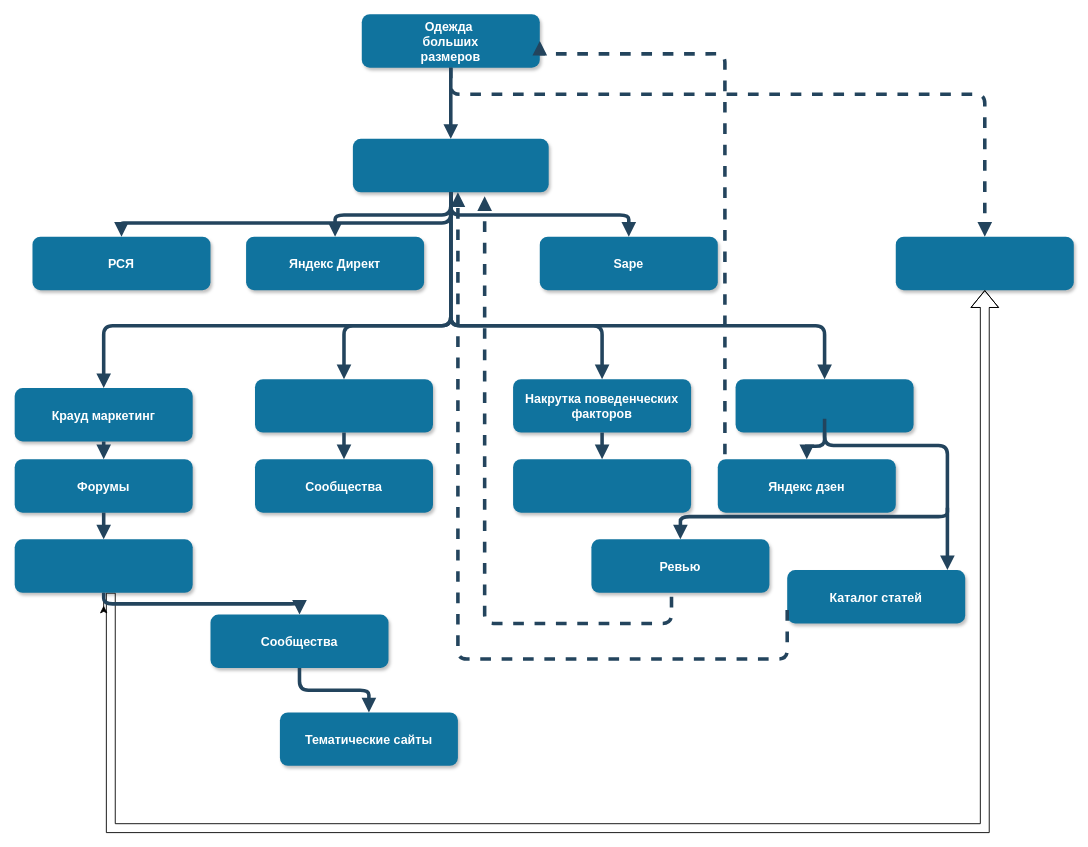
This 1088x847 diagram has some shape labels left out. The shapes that lost their labels are listed below. From the top down, each one's centre as x and y in pixels, then its label:
the point at 451,166: Сайт
the point at 985,264: Соцсети Наш аккаунт
the point at 344,406: Блогеры
the point at 825,406: Написание статей
the point at 602,486: Сервисы
the point at 104,567: Соцстеи
